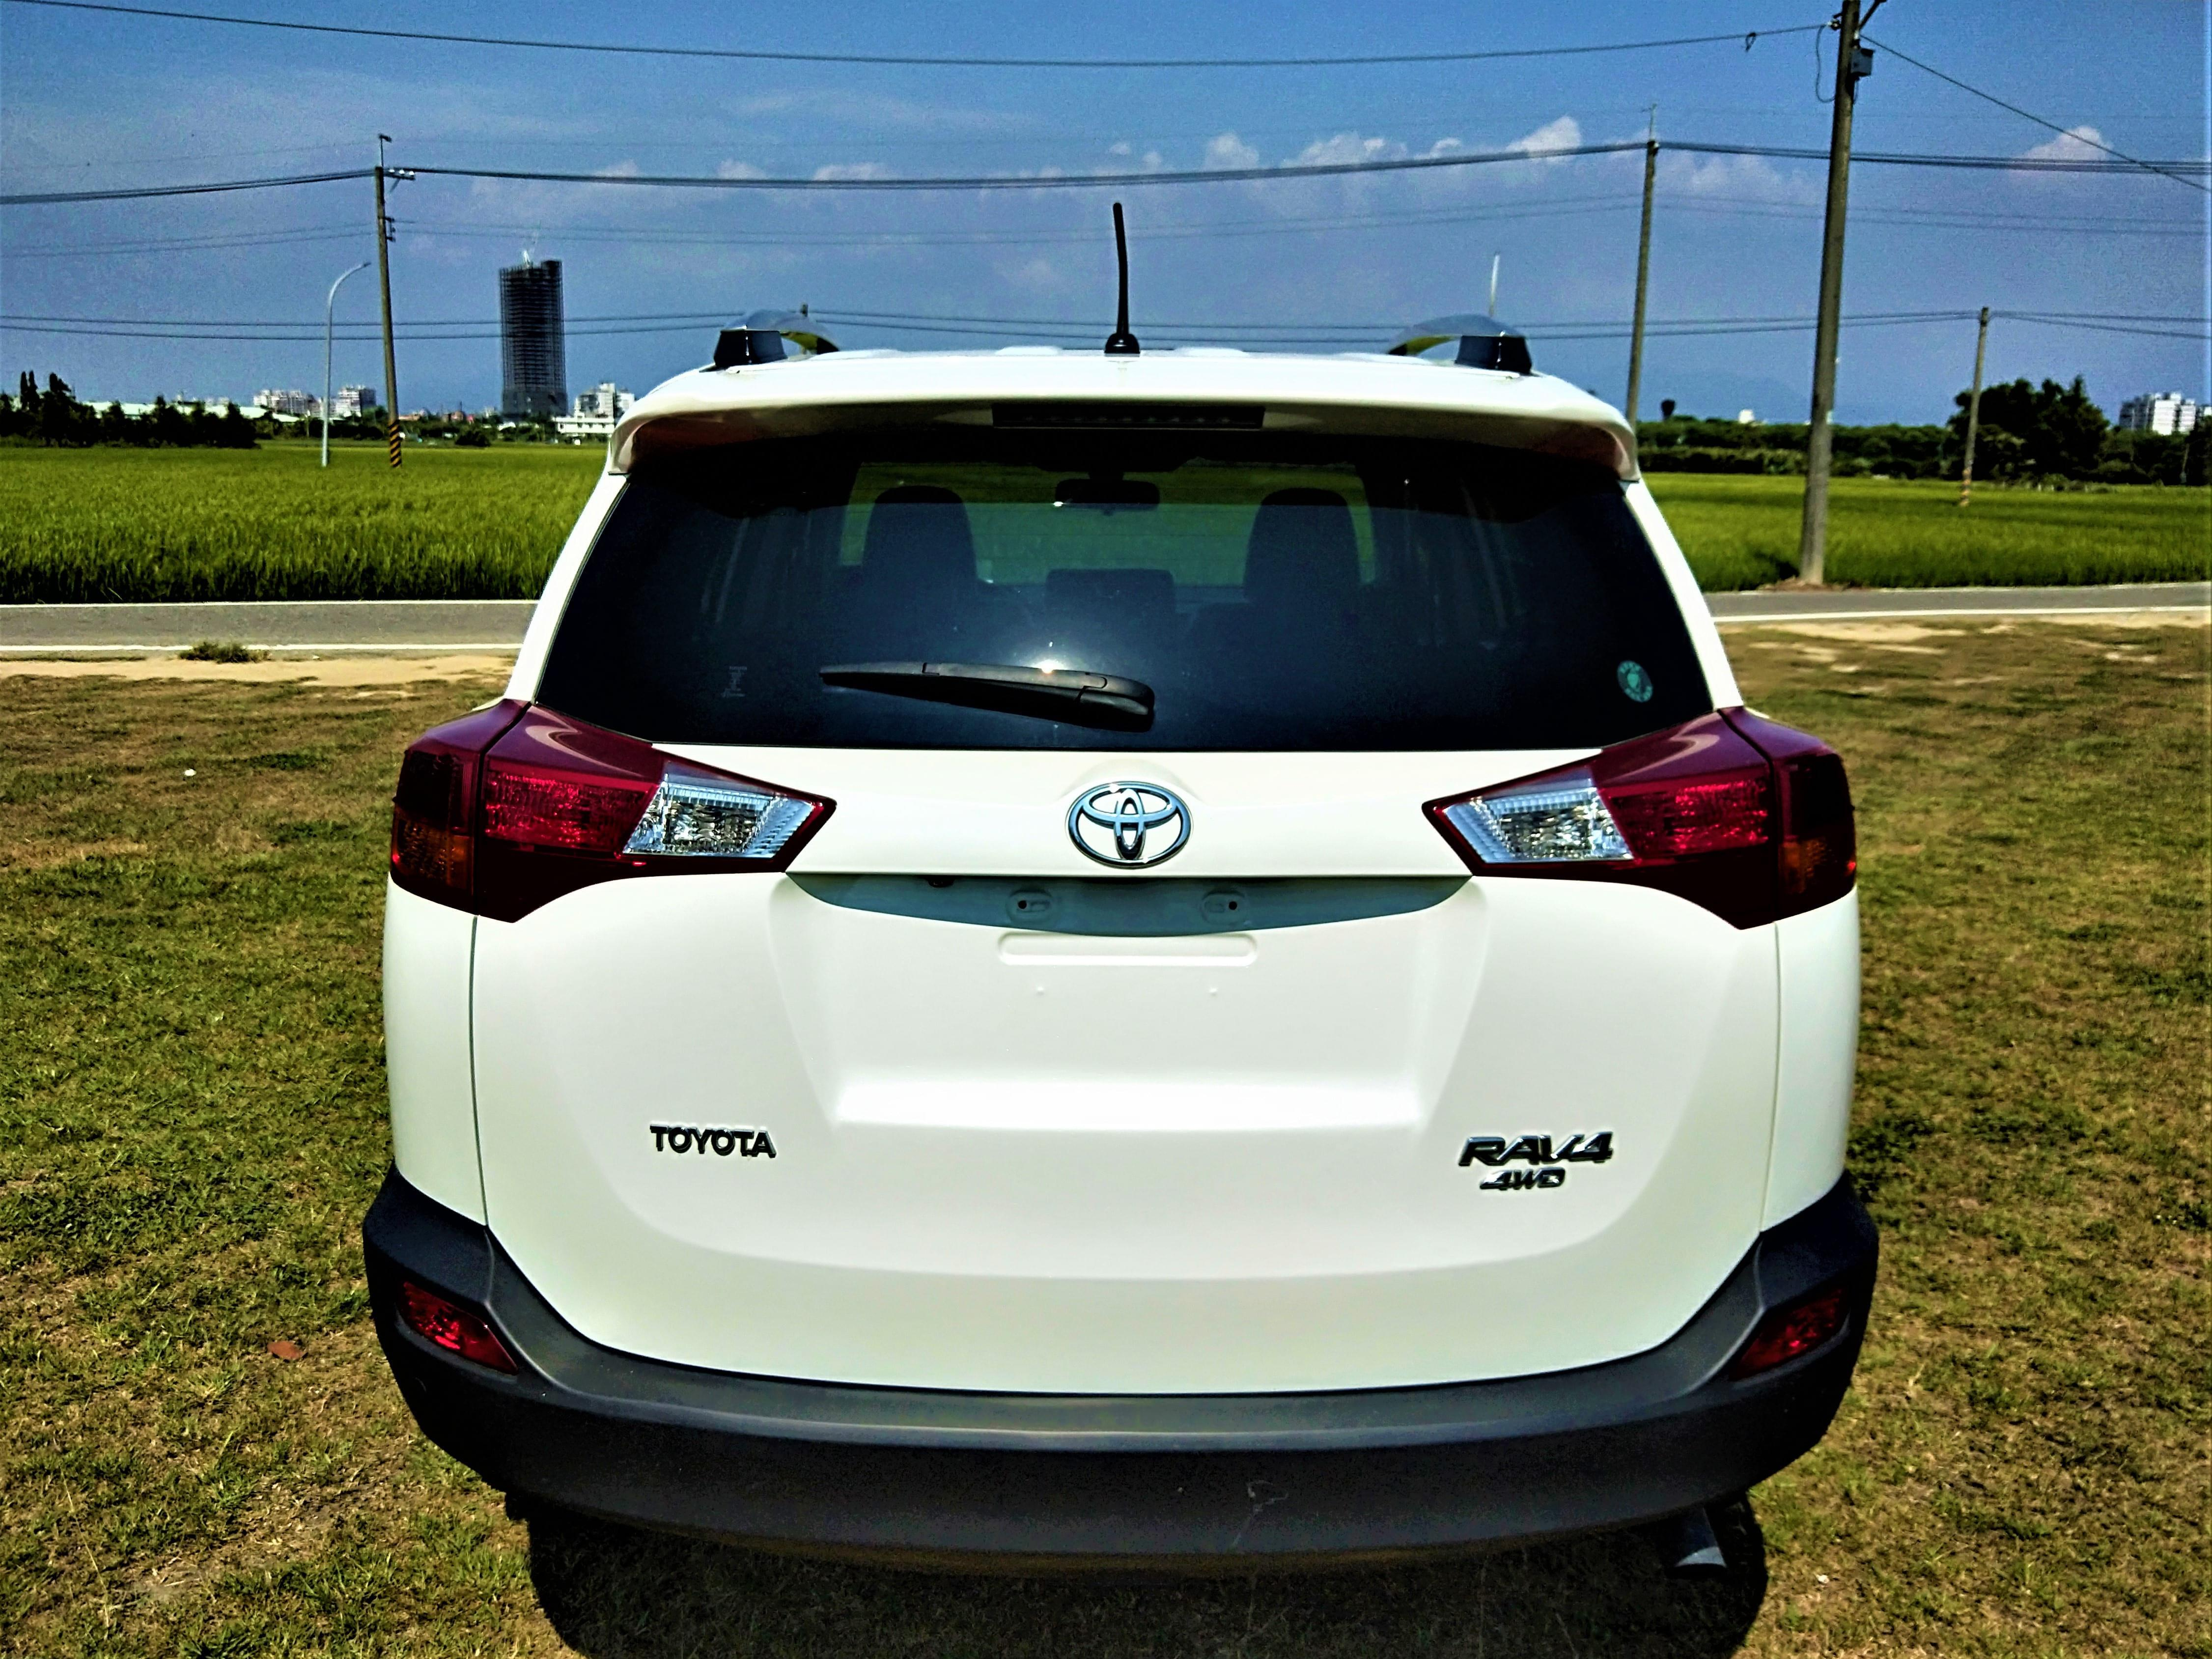toyota_rav4: (369, 347, 1860, 1549)
